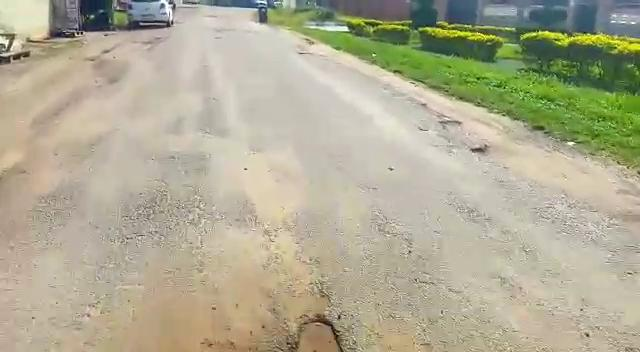pothole: (210, 315, 345, 352)
